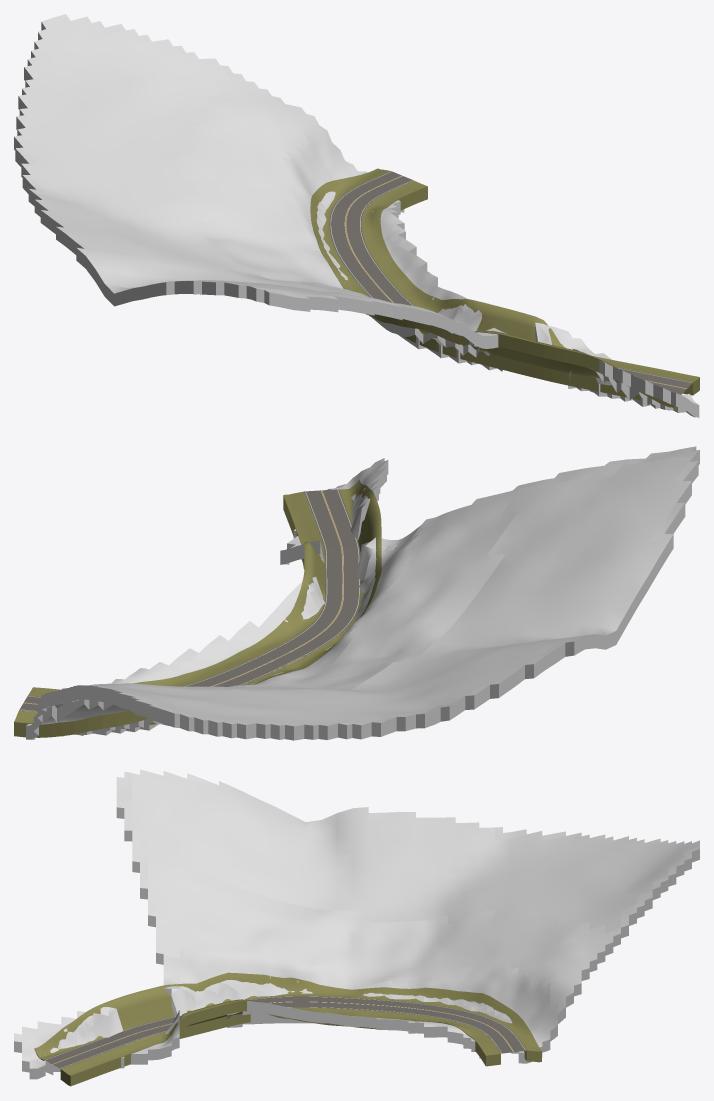
Rendered from conz_130.glb.
3 views of the same model, one above another, from view 1: azimuth 30°, elevation 25°; view 2: azimuth 150°, elevation 25°; view 3: azimuth 270°, elevation 25° (orthographic). The views are drawn at different scales.
Parts seen in each view (by area): view 1: terrain130, verge130R, verge130L, road130; view 2: terrain130, road130, verge130L, verge130R, paint_white130, paint_yellow130; view 3: terrain130, verge130R, verge130L, road130, paint_white130.
Part boxes in pixels (left/top/right/bottom): terrain130: left=14, top=14, right=699, bottom=417; verge130R: left=310, top=168, right=677, bottom=411; verge130L: left=361, top=180, right=699, bottom=395; road130: left=329, top=171, right=692, bottom=394; terrain130: left=26, top=446, right=699, bottom=740; road130: left=19, top=489, right=360, bottom=711; verge130L: left=28, top=491, right=325, bottom=696; verge130R: left=14, top=479, right=381, bottom=737; paint_white130: left=19, top=489, right=359, bottom=711; paint_yellow130: left=23, top=490, right=343, bottom=704; terrain130: left=14, top=769, right=699, bottom=1079; verge130R: left=34, top=972, right=541, bottom=1062; verge130L: left=60, top=999, right=500, bottom=1086; road130: left=44, top=996, right=526, bottom=1068; paint_white130: left=45, top=996, right=525, bottom=1068.
Size of the model in its own units: 108 by 42.31 by 174.
